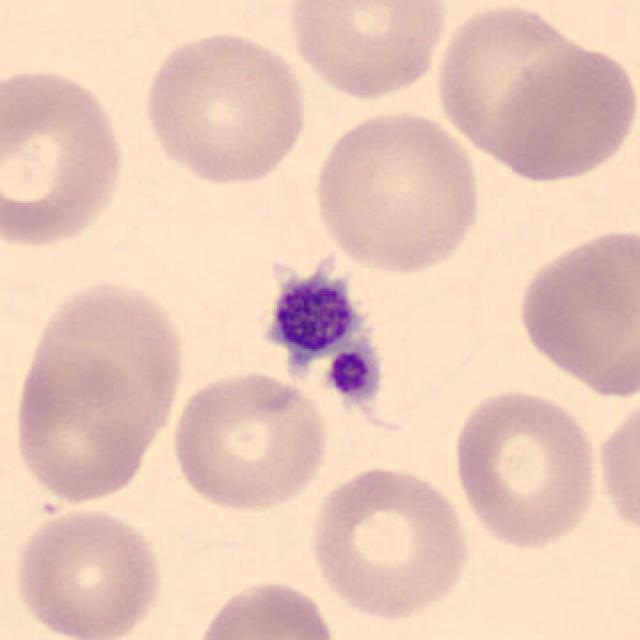Platelets: (251, 252, 393, 414), (324, 344, 384, 404)
RBC: (7, 296, 173, 508), (306, 106, 485, 277), (139, 27, 311, 188), (432, 4, 596, 171), (306, 460, 474, 622), (448, 384, 603, 552), (0, 62, 132, 252), (167, 366, 331, 516), (484, 39, 638, 185), (512, 222, 638, 397), (9, 502, 167, 640), (282, 0, 451, 102), (190, 575, 342, 640), (594, 393, 638, 548)
